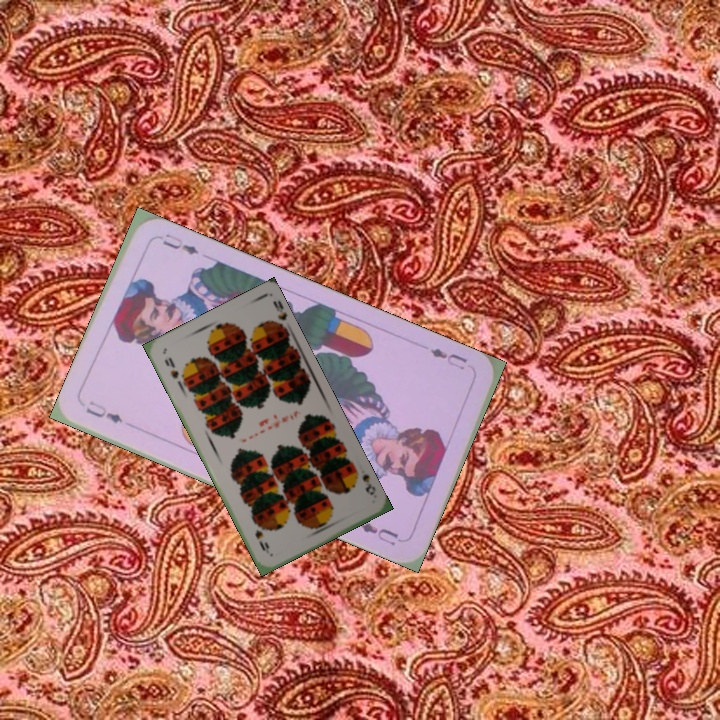EU: (82, 396, 126, 427), (426, 344, 470, 373)
S9: (348, 464, 378, 498), (160, 353, 187, 388)
